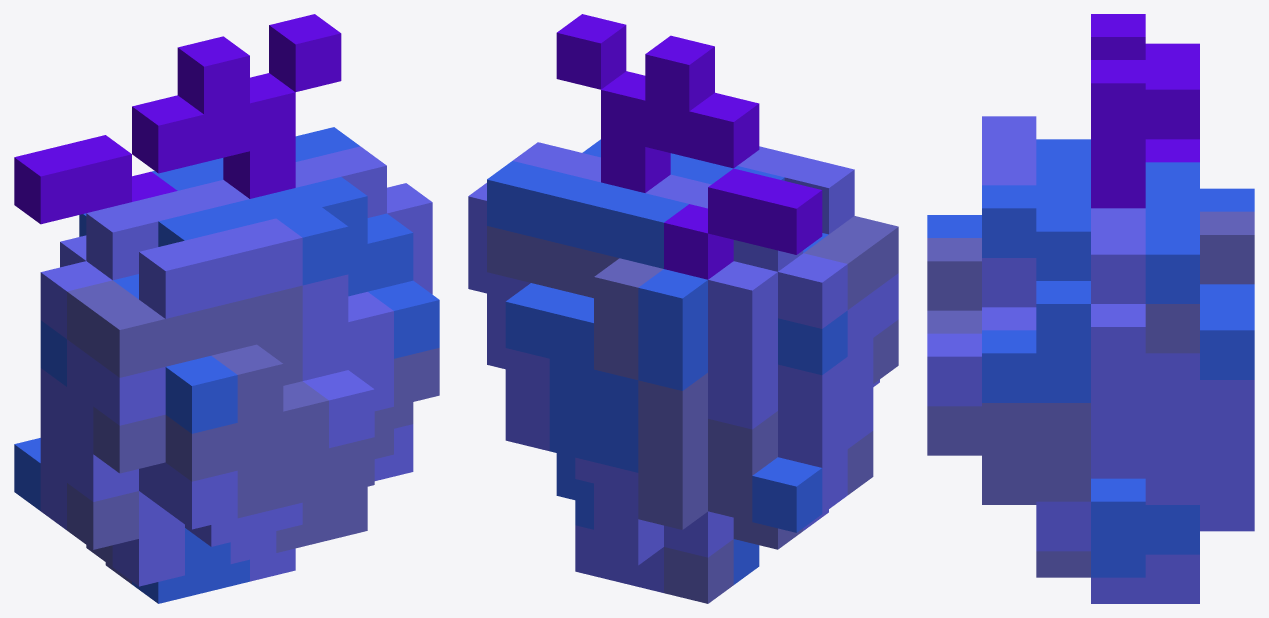
File: corazonglb.glb
3 renders of one model, left to right at view 1: azimuth 30°, elevation 25°; view 2: azimuth 150°, elevation 25°; view 3: azimuth 270°, elevation 25°, orthographic. The views are drawn at different scales.
Visible parts, largest first — view 1: Untitled; view 2: Untitled; view 3: Untitled.
Part boxes in pixels (bbox=[...]): Untitled: bbox=[14, 14, 439, 603]; Untitled: bbox=[468, 14, 898, 603]; Untitled: bbox=[927, 14, 1254, 603].
Bounding box in the file's own units: 0.8 × 1.1 × 0.6.
1 material, 1 textured.
